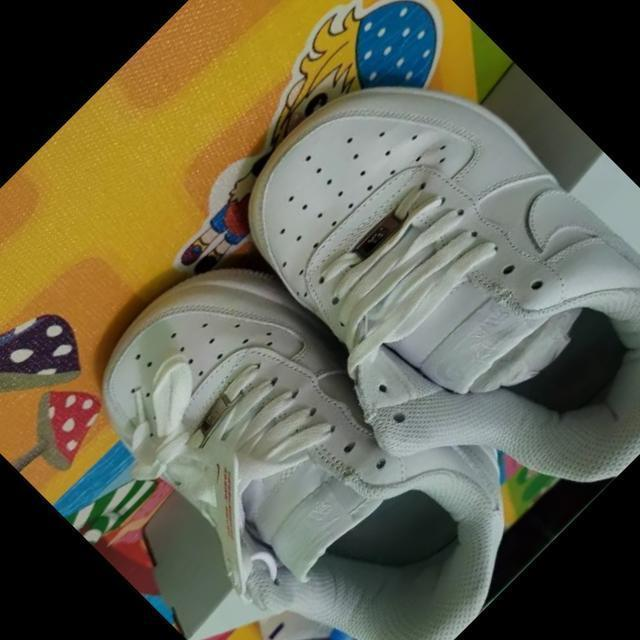nike original air force: (178, 6, 640, 572), (42, 208, 562, 640)
